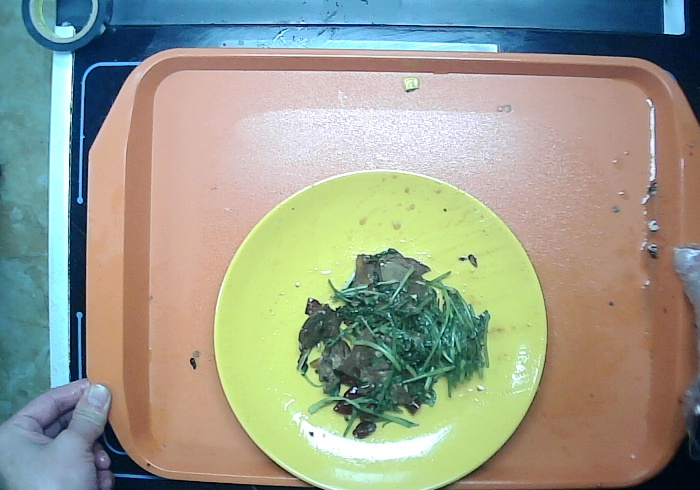HZYJPL-Huang_Se_Yuan_Pan: (191, 131, 559, 490)
